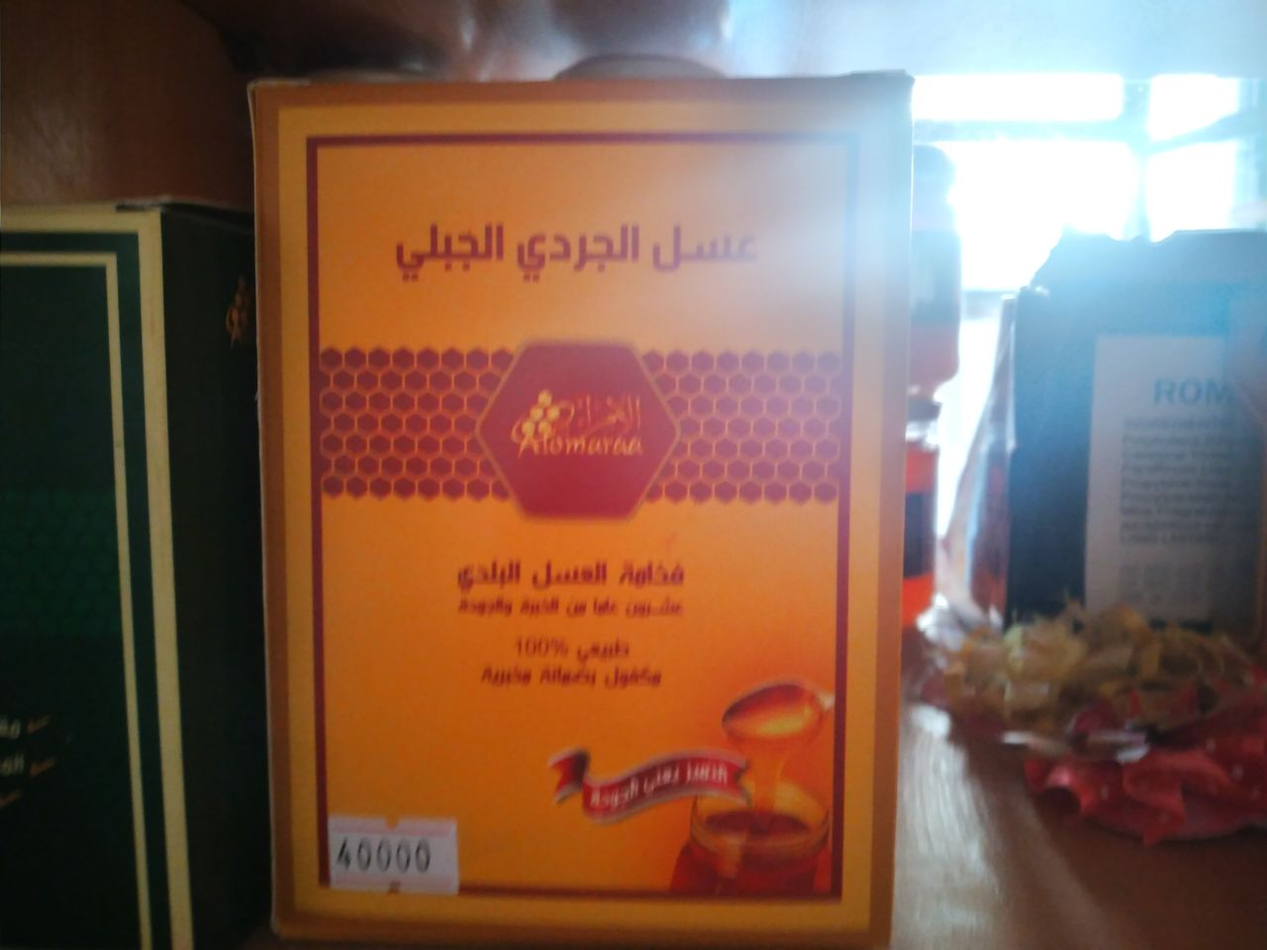Medicine: (228, 69, 926, 950)
